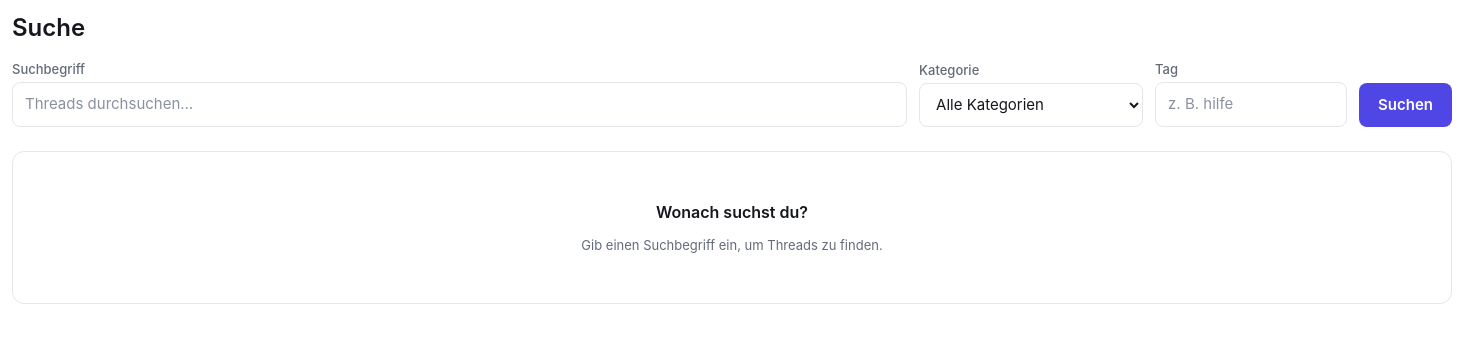
Test: SearchPage › shows the empty state for a query without hits instead of an error
The width and height of the screenshot is (1464, 341).
Type "nothing" into the search field.
click(460, 104); type("nothing")  # box left=12, top=82, right=907, bottom=126
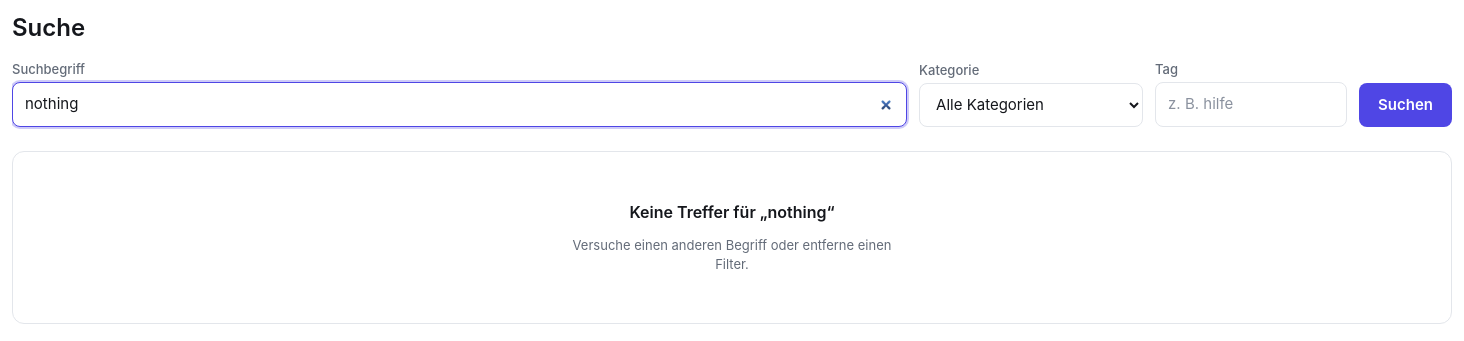
Expected: the text "Keine Treffer für „nothing“" is shown, left=630, top=200, right=835, bottom=224
